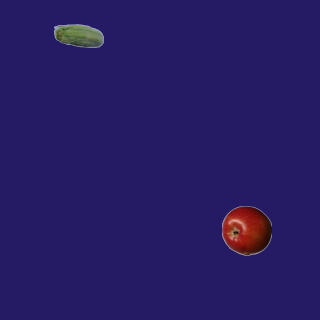Apple Braeburn: (221, 205, 271, 255)
Corn Husk: (53, 12, 103, 62)
